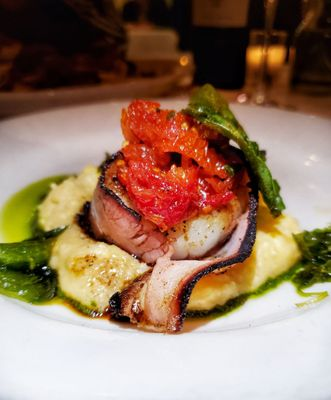soup: (19, 85, 329, 335)
